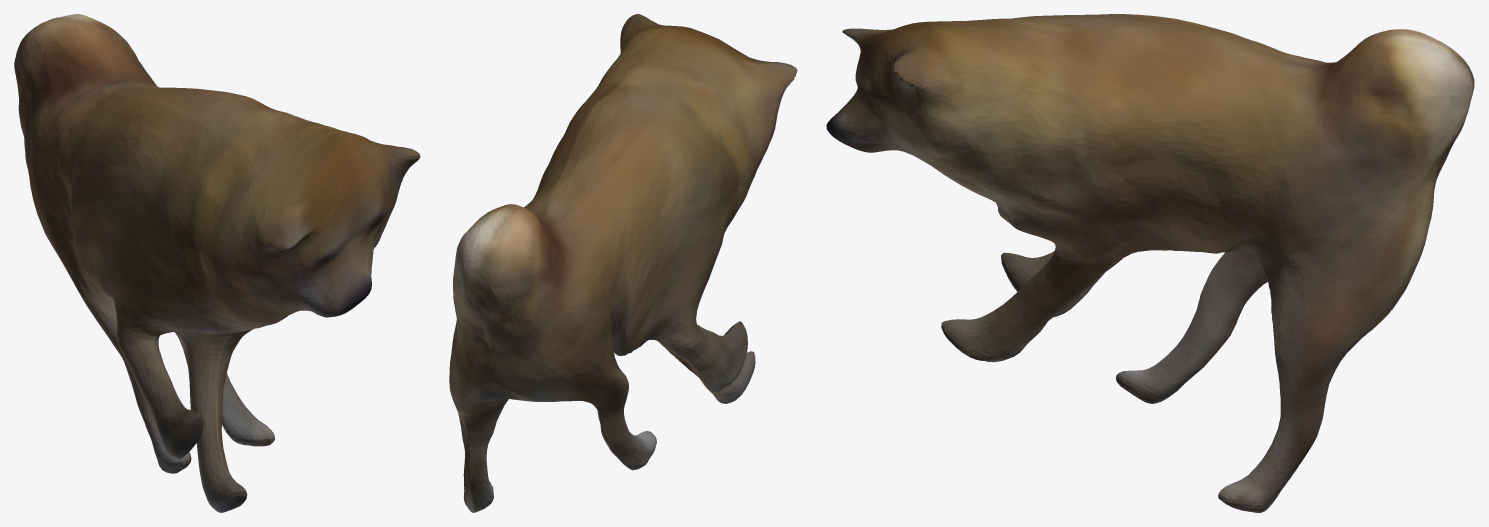
The model's file is shiba-haru-1002-mesh-00014.obj.
3 views of the same model, side by side, from view 1: azimuth 30°, elevation 25°; view 2: azimuth 150°, elevation 25°; view 3: azimuth 270°, elevation 25° (orthographic). The views are drawn at different scales.
Bounding box in the file's own units: 0.0367 × 0.0754 × 0.0972.
